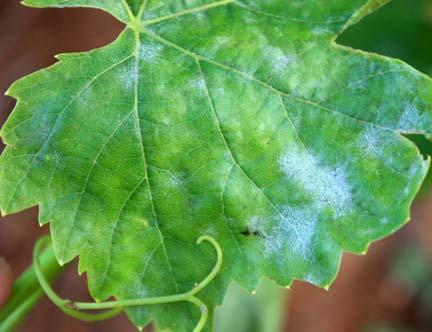Squash Powdery mildew leaf: (22, 2, 432, 319)
